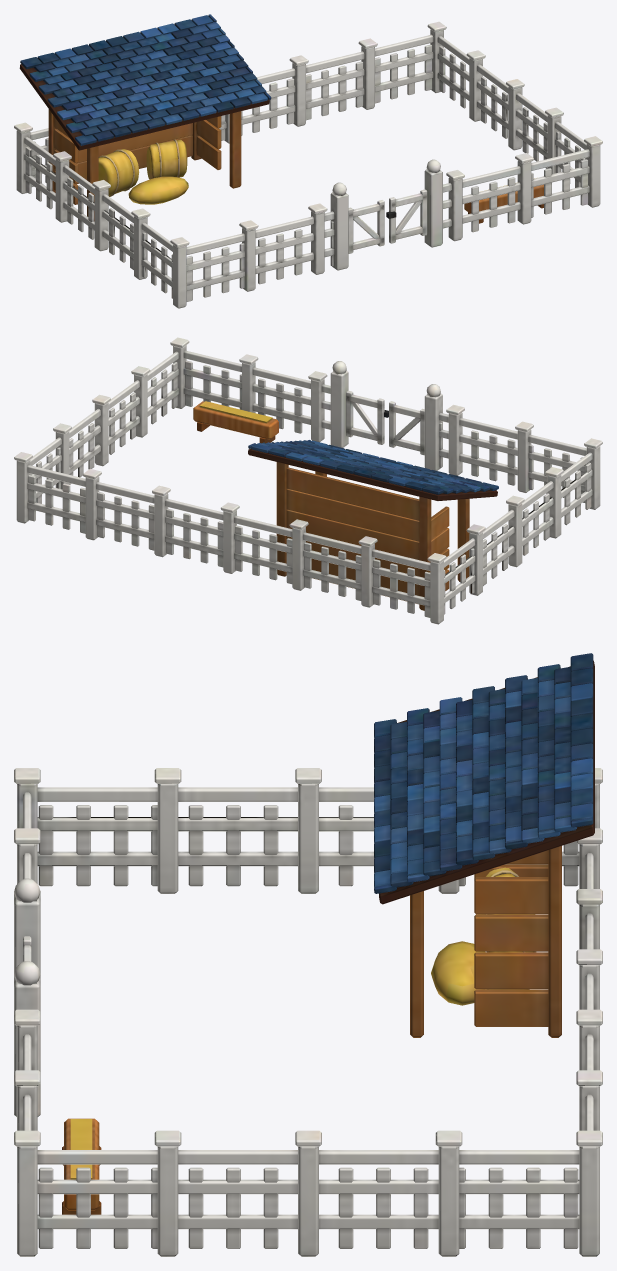
Rendered from suffolk_fold.glb.
3 views of the same model, one above another, from view 1: azimuth 30°, elevation 25°; view 2: azimuth 150°, elevation 25°; view 3: azimuth 270°, elevation 25° (orthographic). The views are drawn at different scales.
Visible parts, largest first — view 1: suffolk_fold, gate1, gate0; view 2: suffolk_fold, gate1, gate0; view 3: suffolk_fold.
Boxes of the visible parts, x1,y1,x2,y2 form: suffolk_fold: (14,14,602,308); gate1: (386,189,427,243); gate0: (348,200,384,253); suffolk_fold: (14,337,602,624); gate1: (346,390,388,444); gate0: (389,401,424,455); suffolk_fold: (14,653,602,1256).
Bounding box in the file's own units: 2.99 × 0.9342 × 1.99.
Materials: 1 (1 with a texture image).
